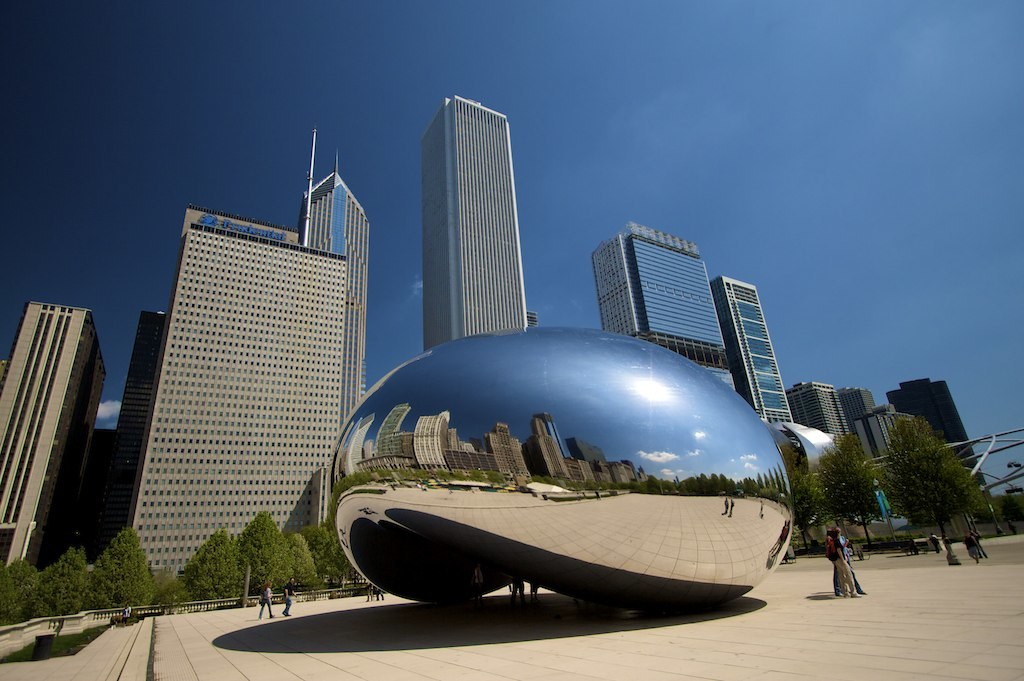Tree: (876, 410, 997, 557), (814, 429, 888, 550), (94, 524, 165, 611), (232, 513, 300, 592), (780, 440, 826, 552), (176, 527, 243, 601), (46, 550, 97, 617), (325, 515, 368, 580), (295, 524, 334, 594), (0, 562, 39, 627), (284, 531, 316, 592), (147, 566, 184, 617), (993, 489, 1022, 534)
